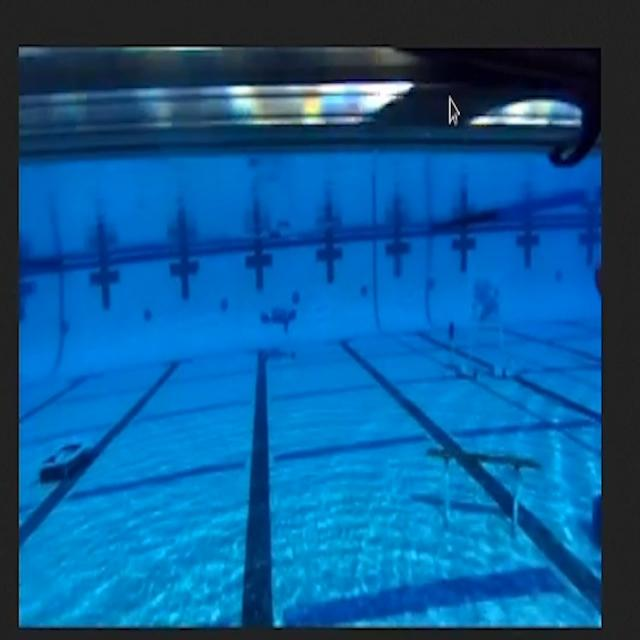Path: (413, 407, 559, 548)
